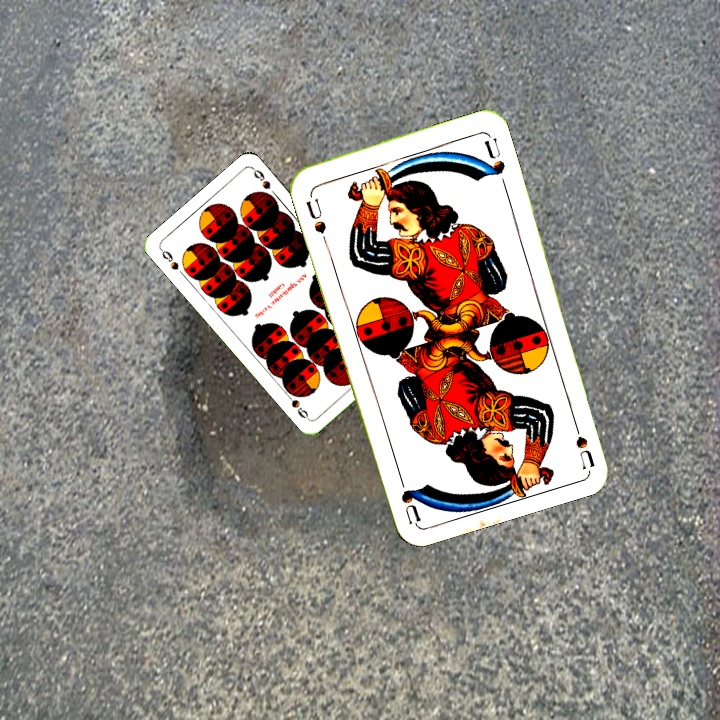S9: (156, 245, 181, 273)
SU: (567, 411, 597, 470), (302, 188, 329, 236)
